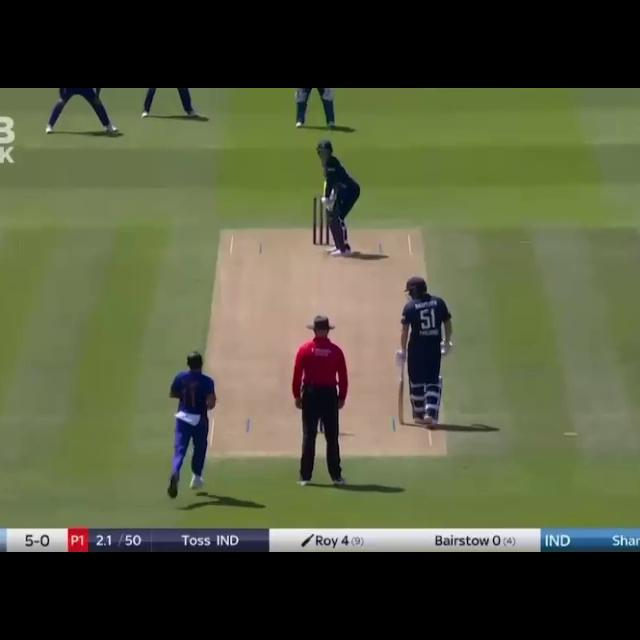umpire: (284, 314, 353, 490)
